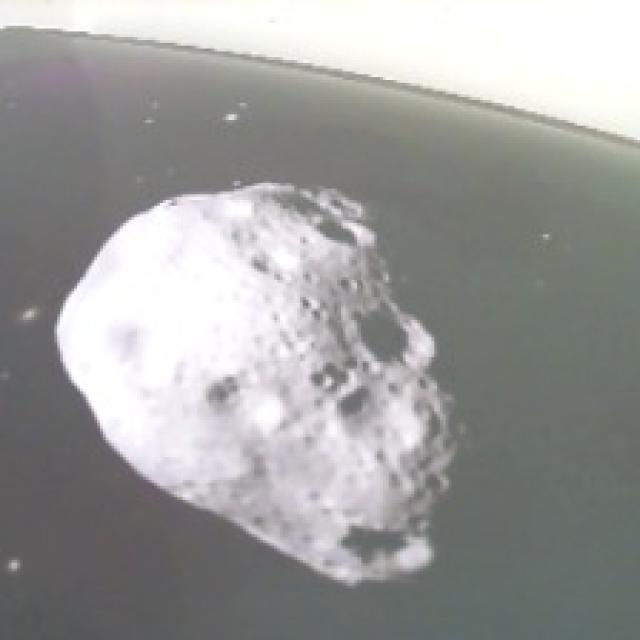Asteroid: (51, 176, 469, 591)
